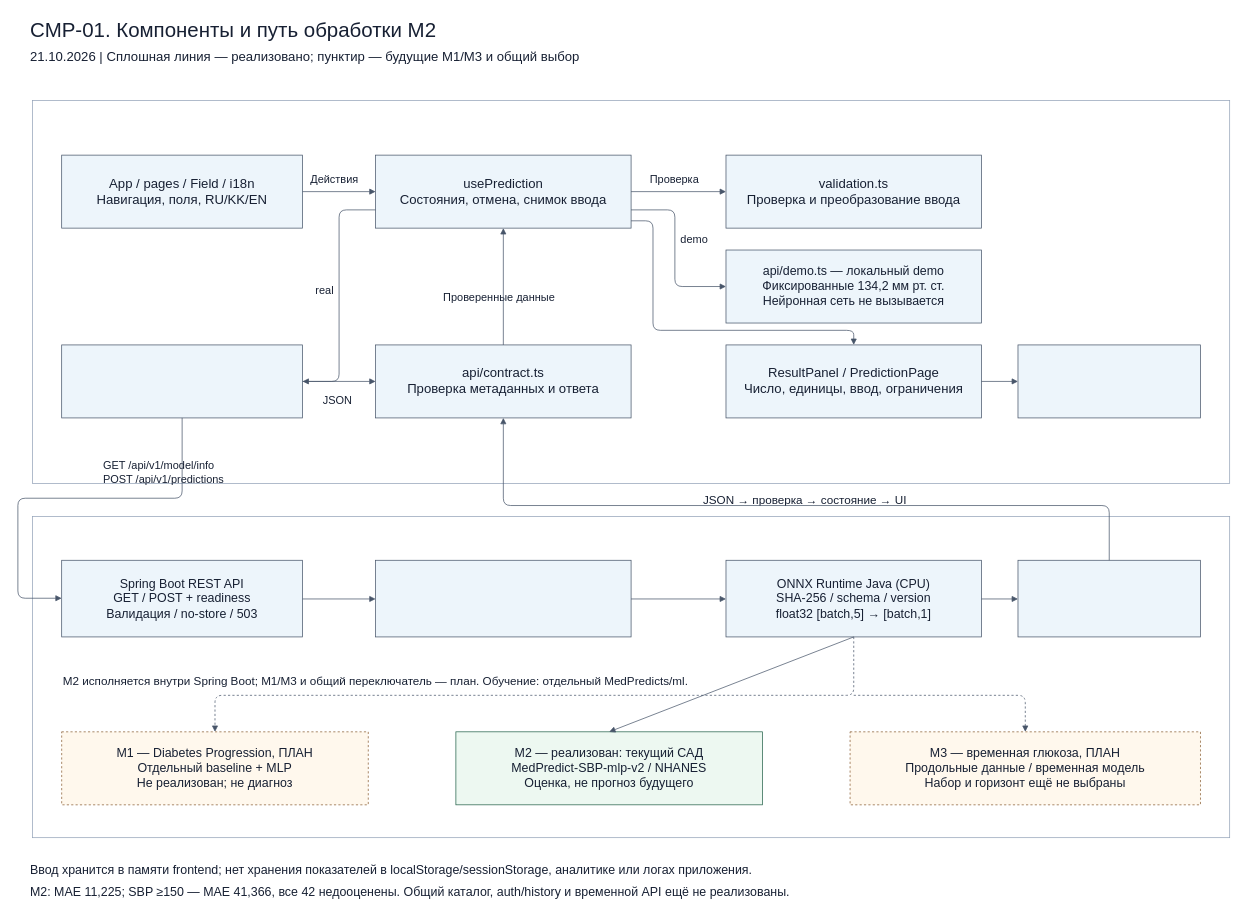
Image size: 1253x913. Some labels were removed from this diagram. The shapes that lost their labels are listed below. From the top down, each one's box as (x1, y1, x2, y2) in pixels, then its label:
(32, 100, 1230, 484): MedPredicts/frontend: реализованный React + TypeScript / Vite
(61, 344, 303, 418): api/http.ts + environment.ts Явный real; timeout; GET / POST
(1017, 344, 1200, 418): pdf/report.ts Локальный PDF Без нового запроса
(375, 560, 631, 637): Независимая валидация Типы, категории, домен metadata Preprocessing внутри ONNX
(1017, 560, 1200, 637): API Response predictedValue / unit / version predictionType / demo / ошибка
(32, 516, 1230, 838): MedPredicts/backend: Spring Boot / Java ONNX; реализован только M2
